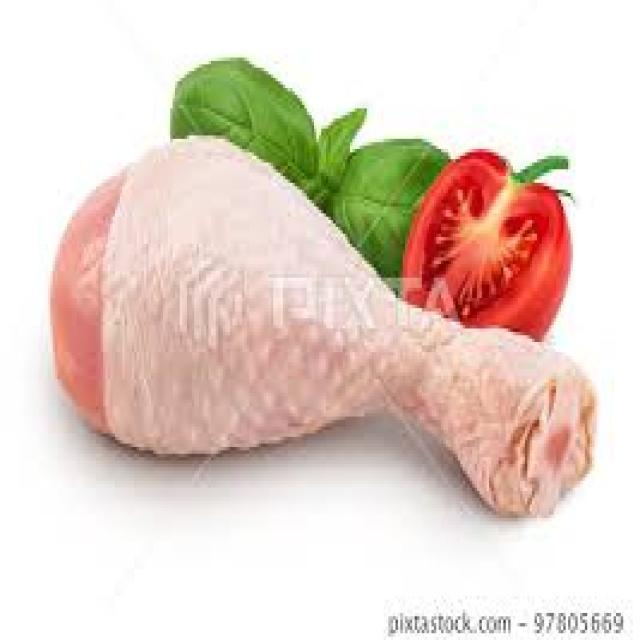leg: (45, 137, 595, 518)
